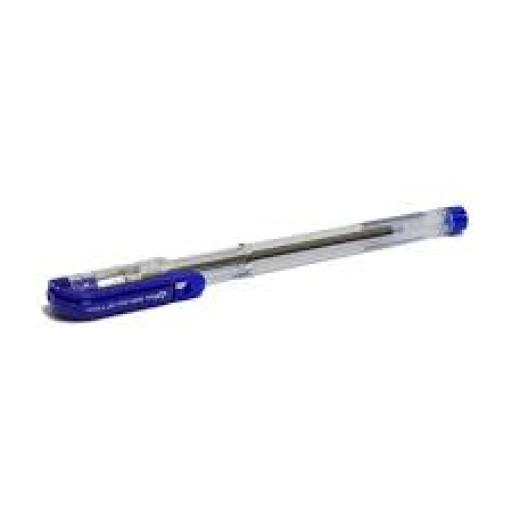tukenmez-kalem: (0, 176, 512, 400)
